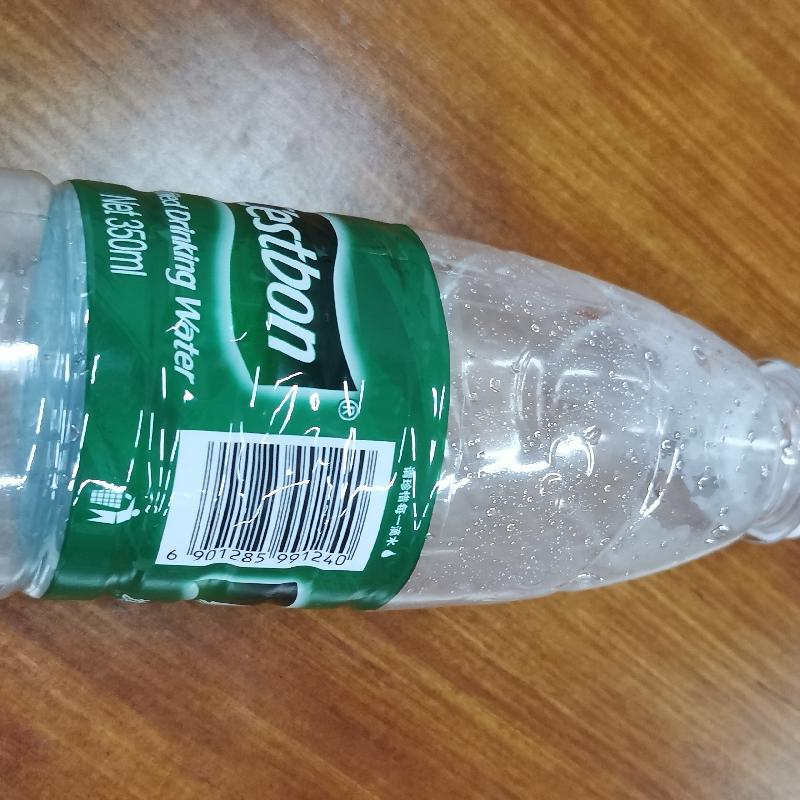bottles: (1, 157, 799, 611)
